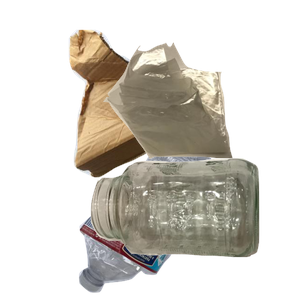cardboard: (66, 27, 242, 197)
glass: (88, 156, 300, 300)
plastic: (76, 131, 280, 300)
trash: (101, 40, 300, 192)
